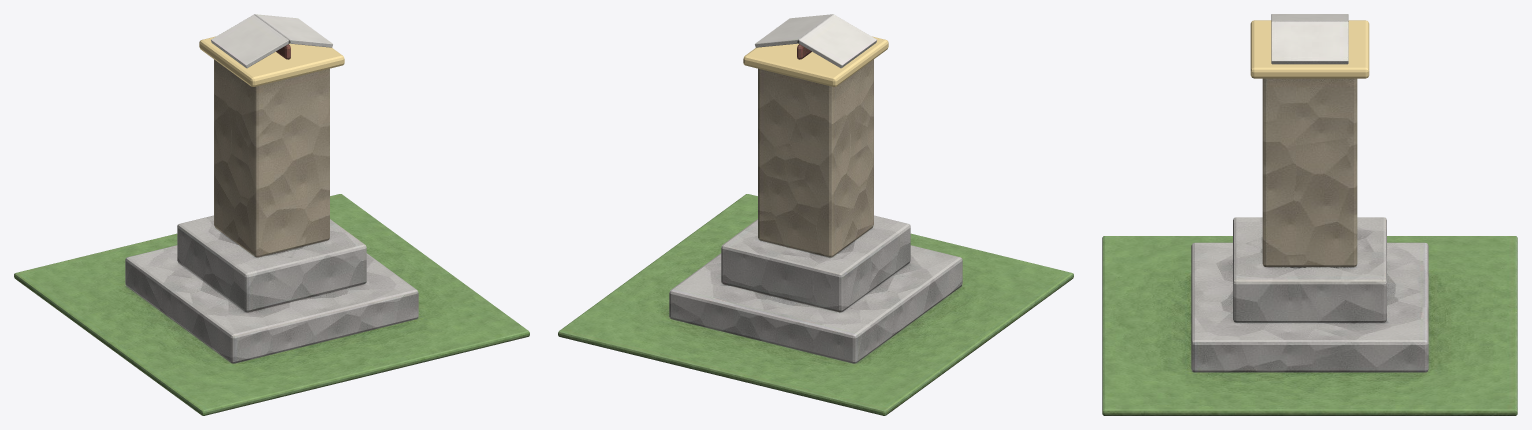
The model's file is buch_neutral.glb.
The picture shows the model from 3 angles, left to right: view 1: azimuth 30°, elevation 25°; view 2: azimuth 150°, elevation 25°; view 3: azimuth 270°, elevation 25°; orthographic projection. The views are drawn at different scales.
Parts seen in each view (by area): view 1: buch_neutral, buch_neutral_details; view 2: buch_neutral, buch_neutral_details; view 3: buch_neutral, buch_neutral_details.
Boxes of the visible parts, bbox=[...] form: buch_neutral: bbox=[14, 14, 529, 415]; buch_neutral_details: bbox=[199, 36, 344, 86]; buch_neutral: bbox=[558, 14, 1073, 415]; buch_neutral_details: bbox=[743, 36, 888, 86]; buch_neutral: bbox=[1102, 14, 1517, 415]; buch_neutral_details: bbox=[1250, 20, 1369, 78].
Bounding box in the file's own units: 0.7 × 0.5729 × 0.7.
2 materials, 1 textured.
